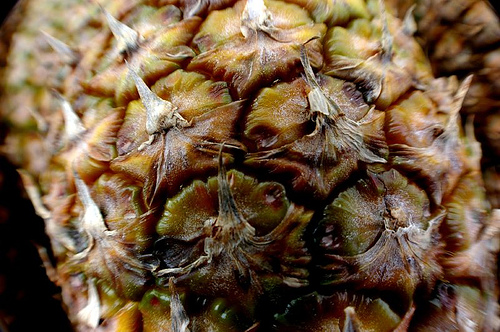pineapple: (2, 0, 499, 331)
